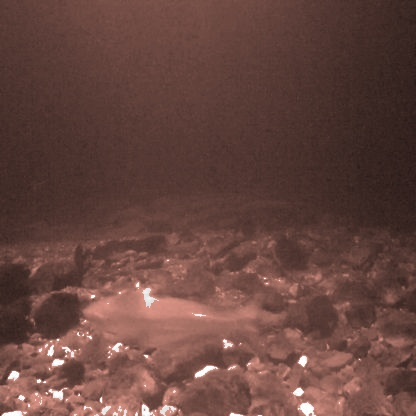salmon: (80, 283, 263, 357)
